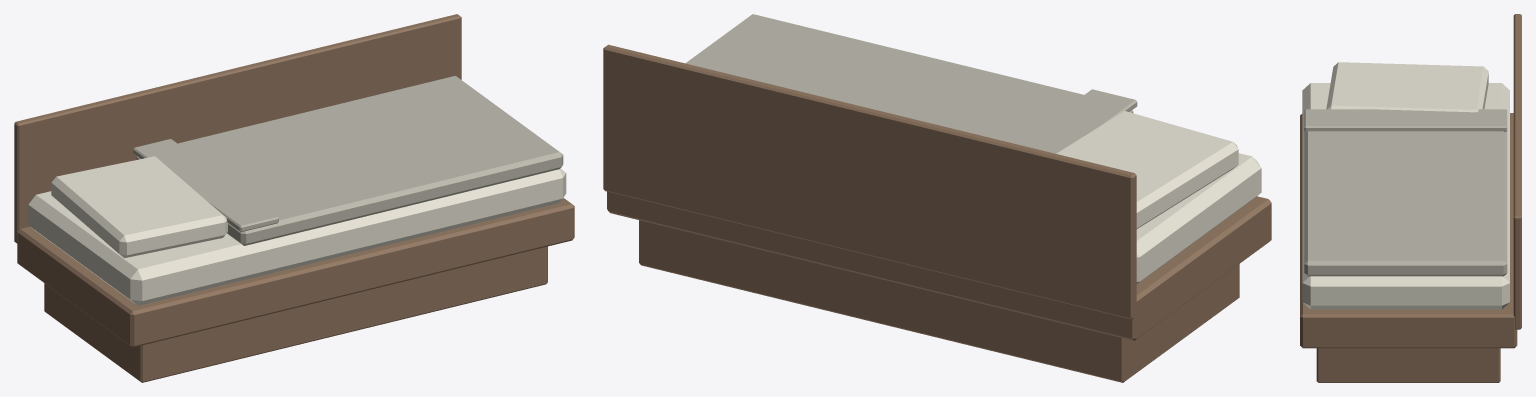
Rendered from dorm-bed.glb.
3 renders of one model, left to right at view 1: azimuth 30°, elevation 25°; view 2: azimuth 150°, elevation 25°; view 3: azimuth 270°, elevation 25°, orthographic. The views are drawn at different scales.
Parts seen in each view (by area): view 1: dorm-bed; view 2: dorm-bed; view 3: dorm-bed.
Boxes of the visible parts, x1,y1,x2,y2 form: dorm-bed: (14,14,574,382); dorm-bed: (603,14,1271,382); dorm-bed: (1300,14,1521,382).
Bounding box in the file's own units: 2.04 × 0.82 × 0.94.
